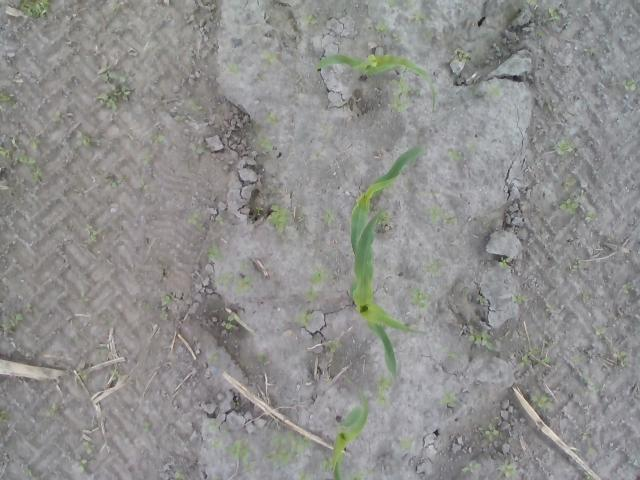Maize: (347, 212, 429, 374), (350, 147, 428, 259), (314, 48, 438, 108), (332, 394, 371, 480)
Weeds: (296, 270, 328, 326), (95, 65, 130, 112), (269, 429, 312, 465), (387, 75, 420, 113), (223, 438, 256, 472), (520, 338, 557, 368), (216, 270, 255, 296), (462, 327, 496, 352), (256, 48, 282, 80), (16, 154, 44, 182), (555, 190, 586, 215), (375, 372, 392, 406), (268, 204, 288, 232), (78, 440, 94, 474), (16, 0, 49, 16), (0, 311, 22, 334), (254, 124, 272, 152), (408, 286, 433, 306), (474, 423, 498, 442), (207, 418, 222, 448), (160, 290, 174, 322), (431, 207, 457, 224), (406, 8, 432, 25), (530, 393, 552, 412), (422, 255, 440, 278), (452, 47, 472, 65), (0, 88, 16, 110), (206, 241, 224, 260), (496, 462, 516, 479), (348, 467, 374, 480), (318, 207, 336, 225), (437, 390, 458, 405), (399, 437, 417, 454), (611, 347, 625, 368), (184, 208, 202, 224), (544, 6, 559, 25), (318, 457, 336, 472), (83, 222, 97, 241), (266, 110, 282, 126), (134, 176, 150, 192), (150, 131, 168, 145), (384, 0, 414, 8), (45, 401, 60, 417), (558, 143, 576, 156), (622, 78, 640, 91), (190, 143, 208, 156), (374, 18, 388, 34), (224, 64, 240, 78), (495, 255, 512, 268), (224, 313, 237, 330), (111, 1, 128, 14), (582, 210, 600, 222), (256, 351, 270, 366), (190, 96, 203, 112), (592, 324, 609, 336), (80, 135, 97, 147), (447, 149, 464, 161), (461, 464, 481, 474), (487, 85, 502, 98), (206, 353, 221, 366), (511, 292, 526, 304), (578, 368, 589, 384), (175, 114, 191, 125), (296, 470, 313, 480), (622, 280, 635, 293), (30, 136, 42, 150), (0, 146, 12, 160), (0, 410, 11, 425), (566, 356, 582, 366), (110, 176, 119, 192), (110, 368, 120, 382), (327, 340, 337, 353), (20, 466, 33, 476), (52, 110, 62, 123), (303, 15, 317, 24), (582, 471, 596, 480), (580, 290, 590, 302), (80, 290, 88, 304), (296, 210, 304, 224), (142, 421, 152, 432), (466, 142, 476, 153), (379, 212, 388, 224), (544, 104, 556, 113), (175, 468, 184, 480), (214, 215, 224, 225), (582, 46, 592, 56), (572, 260, 583, 269), (423, 31, 432, 41), (446, 351, 456, 359), (254, 206, 264, 214), (511, 9, 520, 17), (478, 298, 488, 305), (240, 259, 246, 270), (105, 319, 113, 327), (344, 376, 352, 384), (526, 0, 536, 6), (536, 31, 546, 37), (336, 101, 341, 111), (80, 373, 87, 380), (232, 402, 240, 406)
